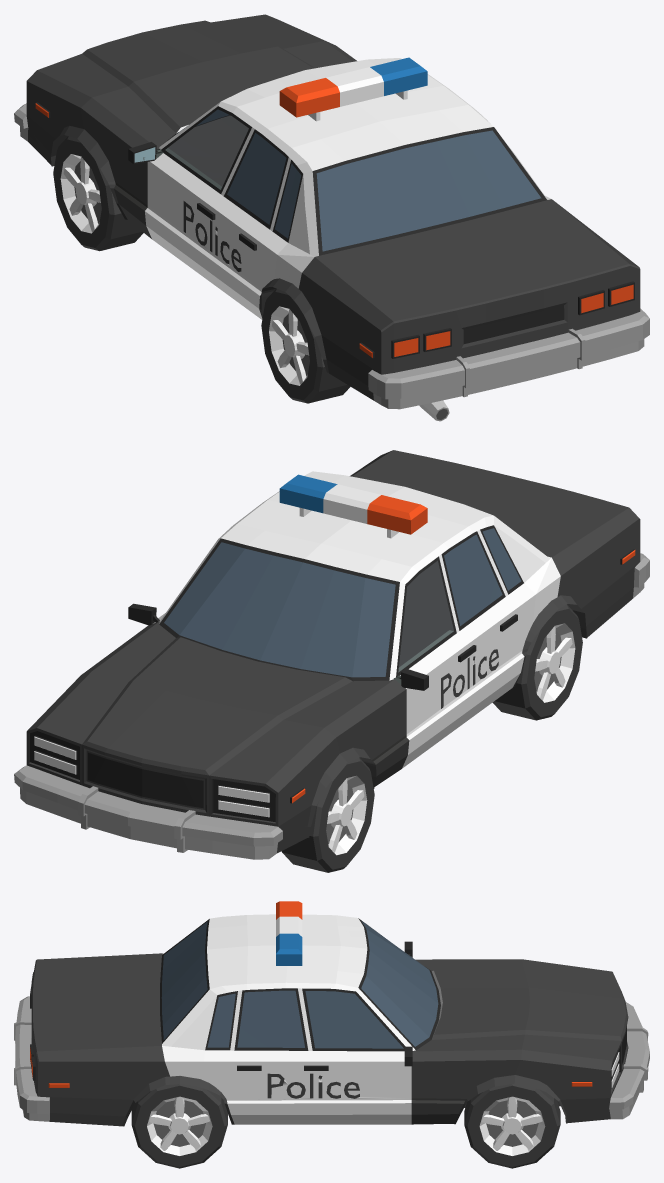
Rendered from abandoned_police_openable.glb.
The picture shows the model from 3 angles, top to bottom: view 1: azimuth 30°, elevation 25°; view 2: azimuth 150°, elevation 25°; view 3: azimuth 270°, elevation 25°; orthographic projection. The views are drawn at different scales.
Visible parts, largest first — view 1: Police Car N_4, DriverDoor, Police Car N_4 FL Tire, Police Car N_4 BL Tire; view 2: Police Car N_4, DriverDoor, Police Car N_4 FL Tire, Police Car N_4 BL Tire; view 3: Police Car N_4, Police Car N_4 FR Tire, Police Car N_4 BR Tire.
Part boxes in pixels (x1,y1,x2,y2): Police Car N_4: [14, 14, 649, 421]; DriverDoor: [129, 106, 251, 275]; Police Car N_4 FL Tire: [53, 136, 143, 251]; Police Car N_4 BL Tire: [261, 288, 350, 403]; Police Car N_4: [14, 450, 649, 859]; DriverDoor: [393, 556, 472, 758]; Police Car N_4 FL Tire: [281, 757, 374, 872]; Police Car N_4 BL Tire: [492, 604, 582, 720]; Police Car N_4: [14, 901, 649, 1126]; Police Car N_4 FR Tire: [464, 1083, 560, 1168]; Police Car N_4 BR Tire: [131, 1084, 227, 1168].
Bounding box in the file's own units: 1.84 × 1.44 × 4.3.
Materials: 4 (3 with a texture image).
